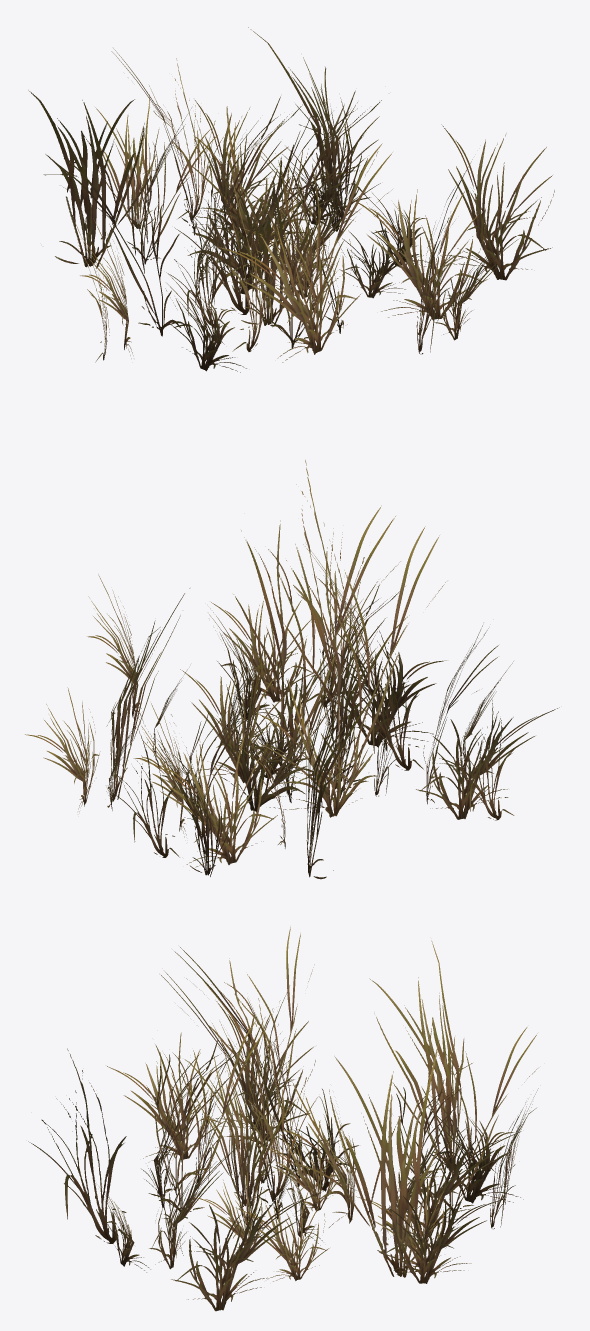
File: gp-gras-1.glb
3 renders of one model, top to bottom at view 1: azimuth 30°, elevation 25°; view 2: azimuth 150°, elevation 25°; view 3: azimuth 270°, elevation 25°, orthographic. The views are drawn at different scales.
Parts seen in each view (by area): view 1: gp-gras-1; view 2: gp-gras-1; view 3: gp-gras-1.
Part boxes in pixels (<box>): gp-gras-1: <box>28,27,554,372</box>; gp-gras-1: <box>25,460,559,879</box>; gp-gras-1: <box>28,927,538,1311</box>.
Bounding box in the file's own units: 2.36 × 1.26 × 2.39.
Materials: 1 (1 with a texture image).
